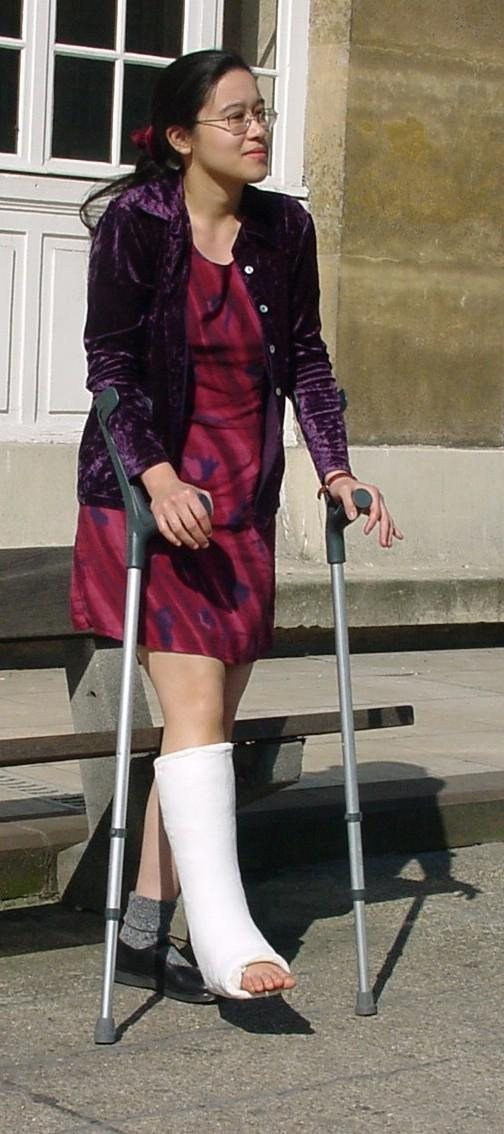crutches: (66, 48, 408, 1046)
